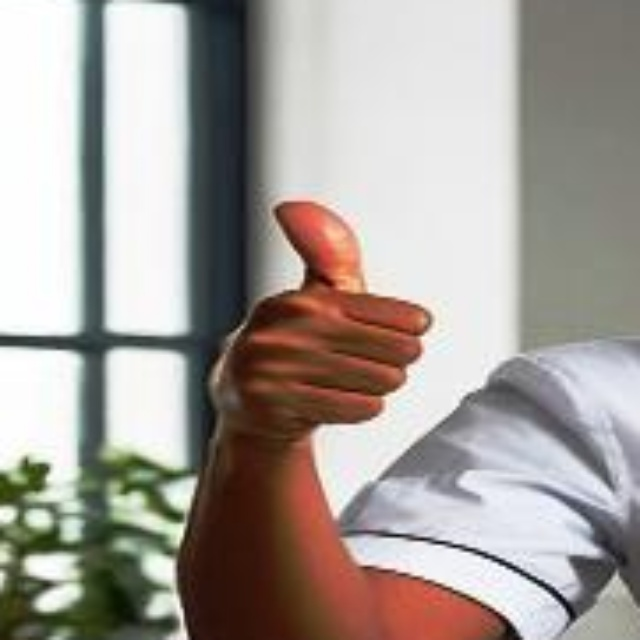thumbs_up: (202, 187, 438, 453)
